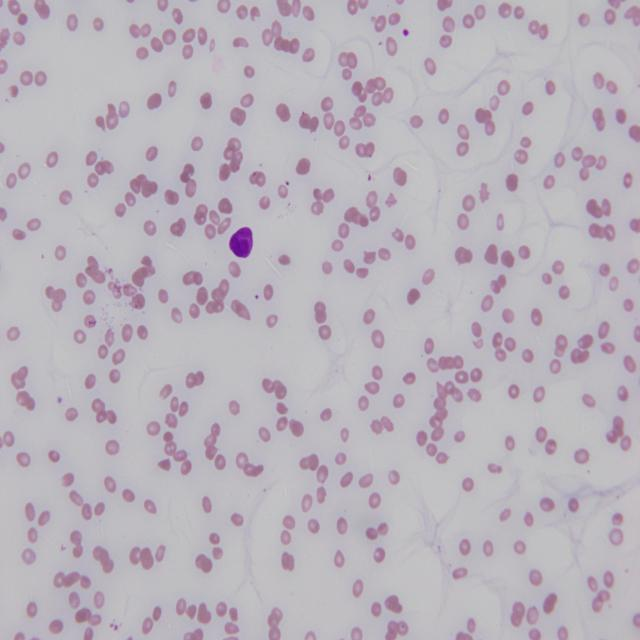cell: (229, 226, 252, 258)
